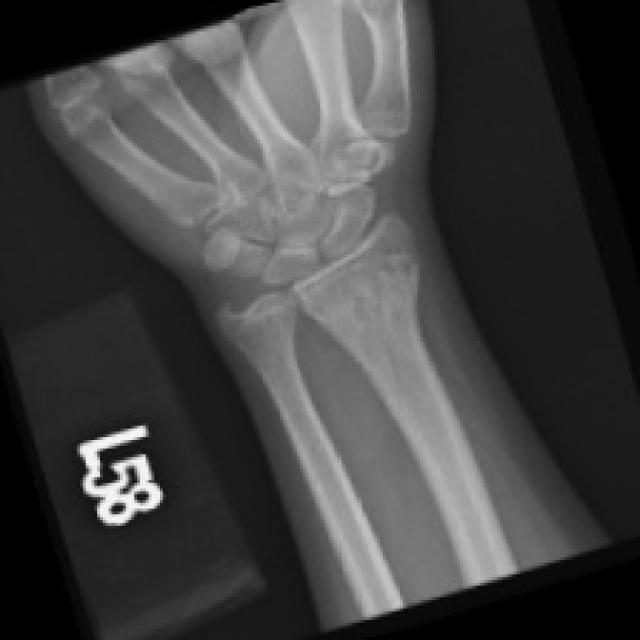fracture: (170, 238, 326, 364)
